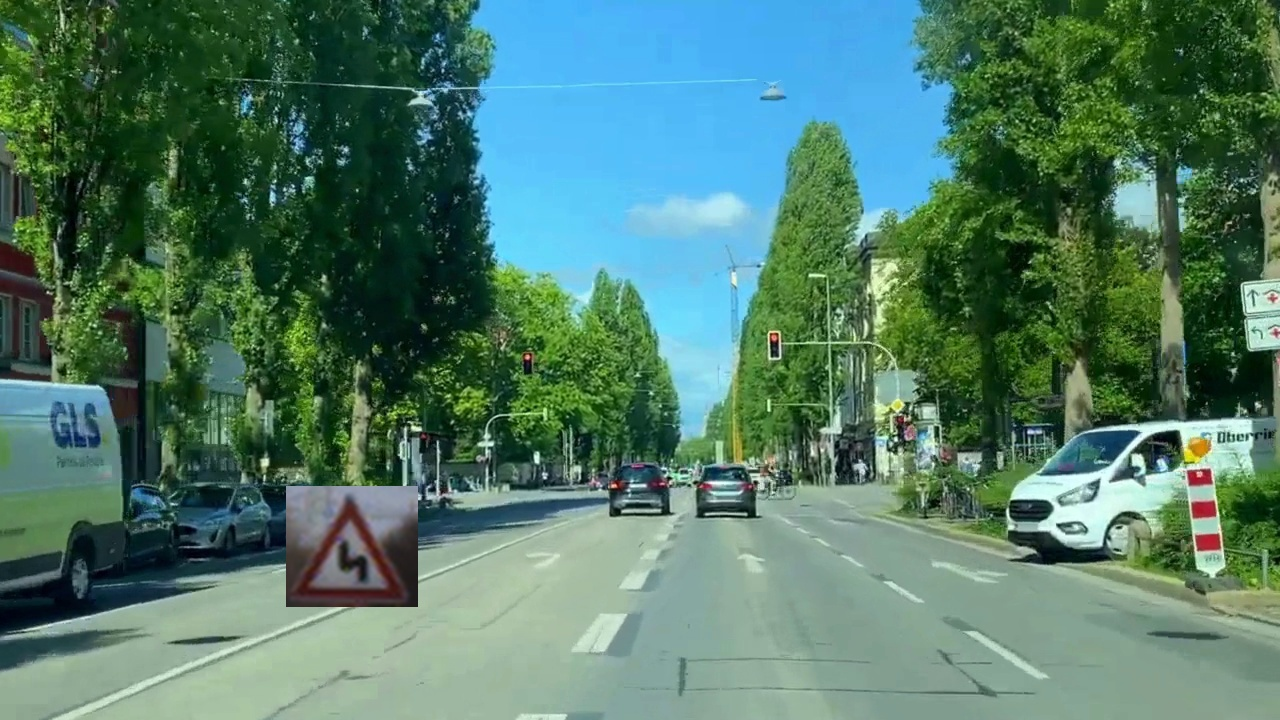Double curve: (286, 486, 418, 607)
